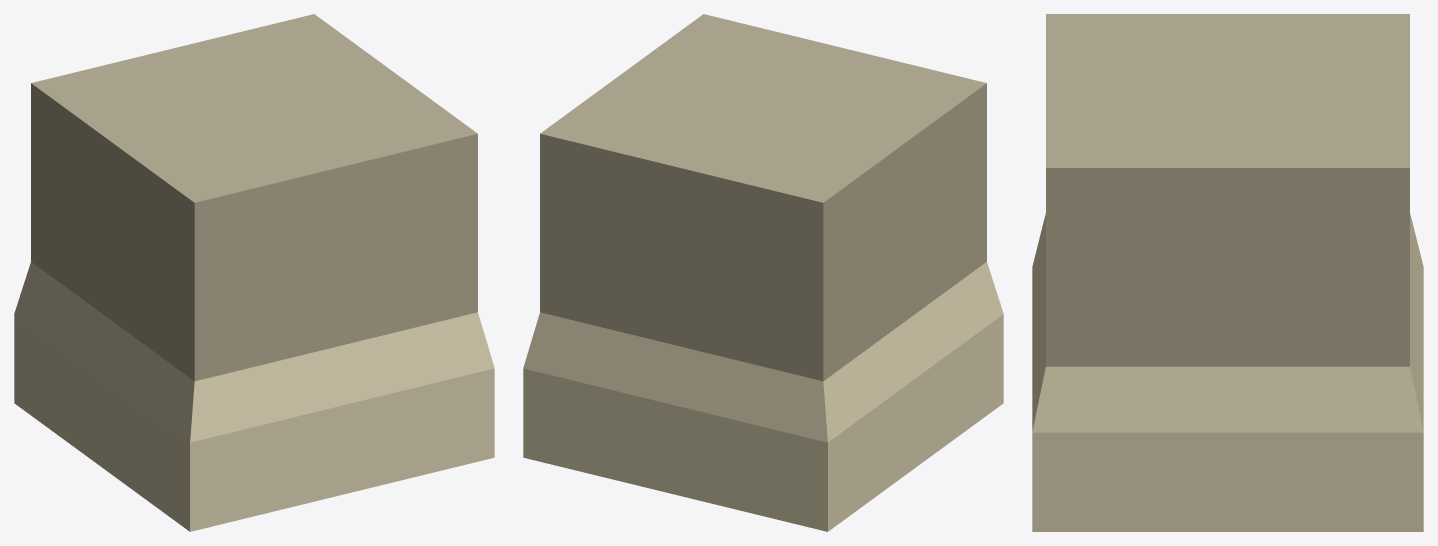
Rendered from towerSquareBase.fbx.
The picture shows the model from 3 angles, left to right: view 1: azimuth 30°, elevation 25°; view 2: azimuth 150°, elevation 25°; view 3: azimuth 270°, elevation 25°; orthographic projection. The views are drawn at different scales.
Visible parts, largest first — view 1: towerSquareBase; view 2: towerSquareBase; view 3: towerSquareBase.
Boxes of the visible parts, box(x1,y1,x2,y2) form: towerSquareBase: box(14, 14, 494, 531); towerSquareBase: box(523, 14, 1003, 531); towerSquareBase: box(1032, 14, 1423, 531).
Size of the model in its own units: 10 by 10.1 by 10.
